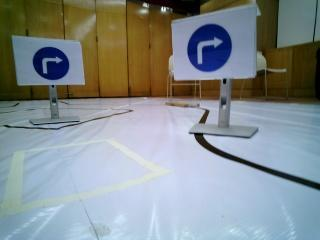right: (169, 20, 256, 74), (15, 32, 84, 85)
